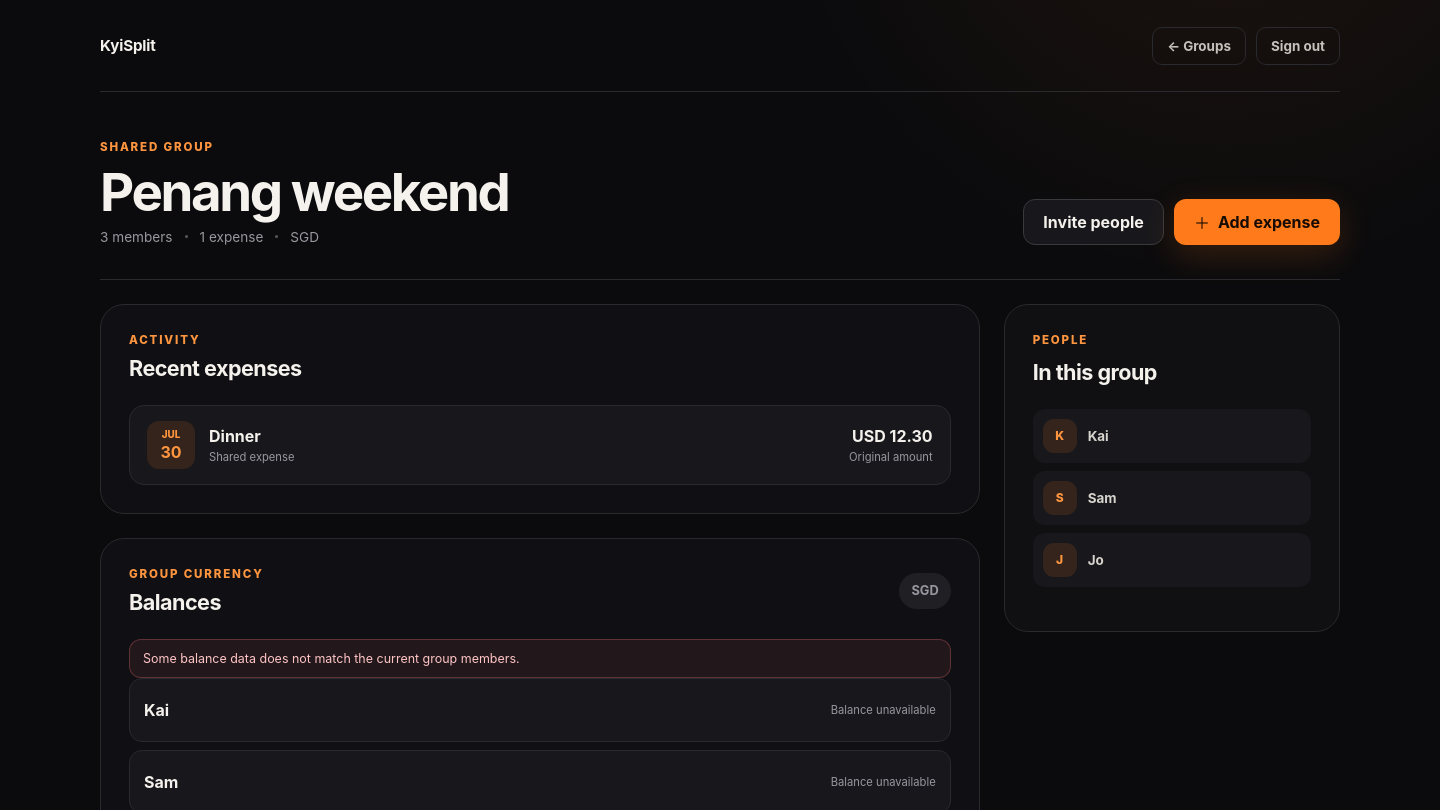
preserves the row after a safe API rejection
The image size is (1440, 810).
Click the button with aria-label "View details for Dinner": (171, 445) [129, 405, 951, 485]
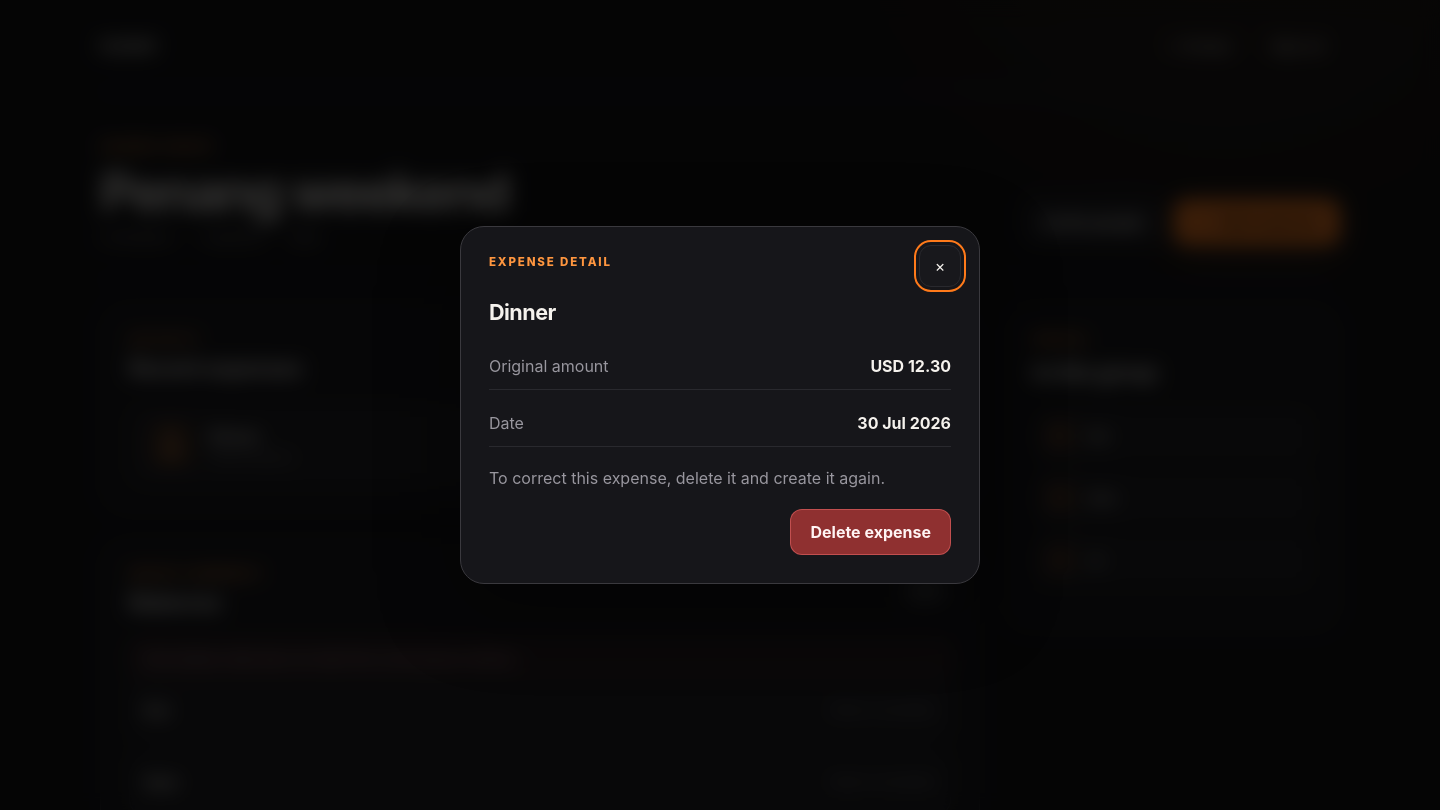
Click the button "Delete expense": (871, 532) [790, 509, 951, 555]
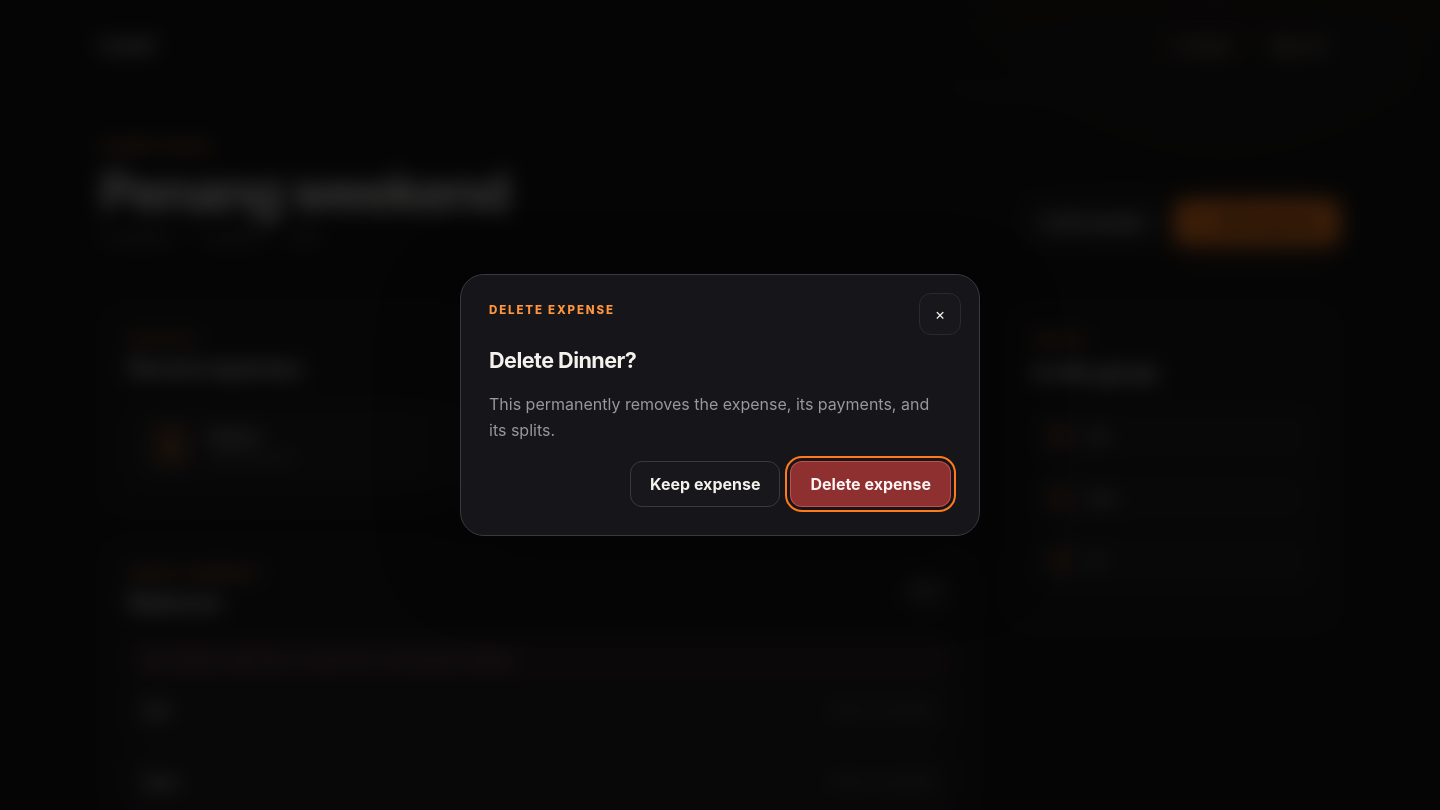
Click the button "Delete expense": (871, 484) [790, 461, 951, 507]
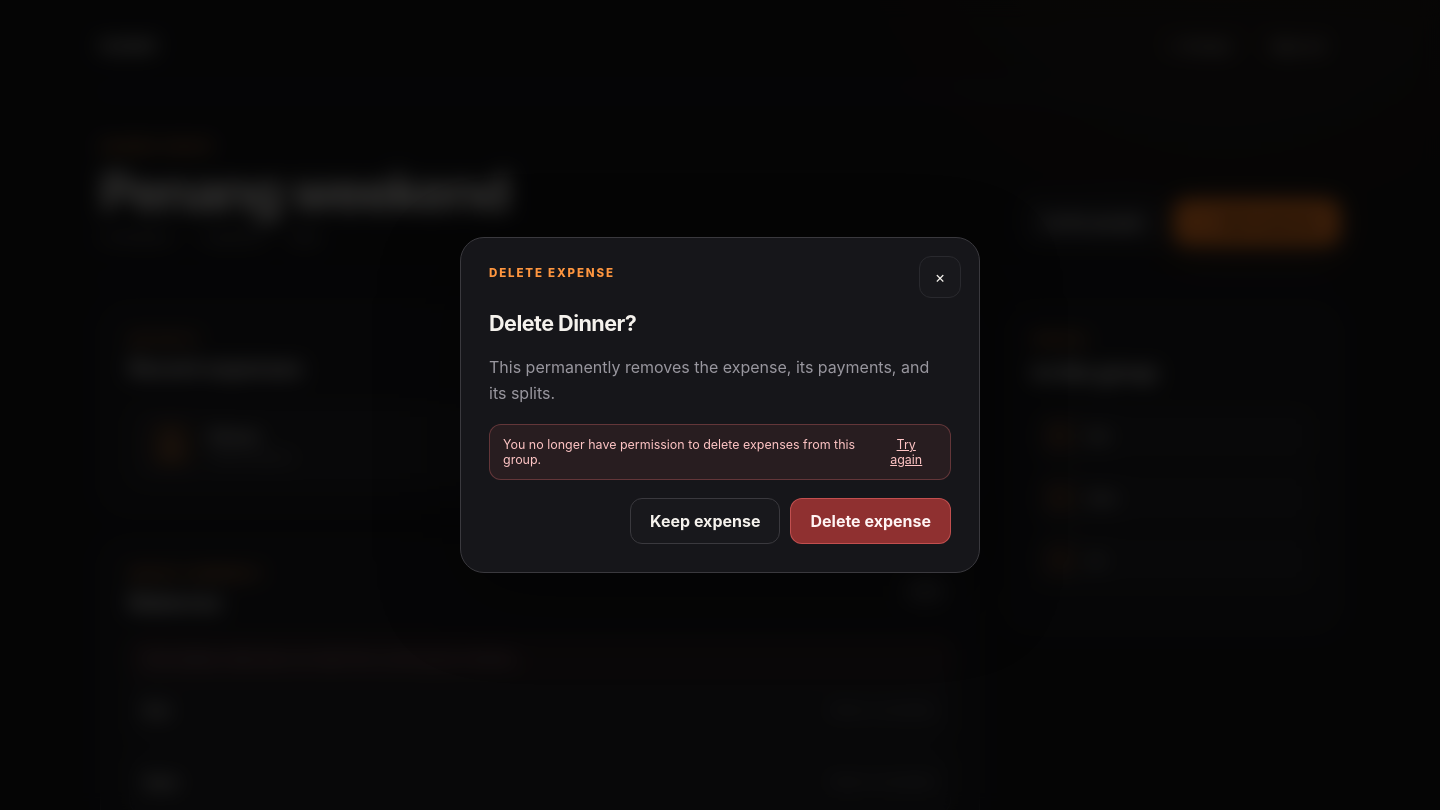
Check: the button with aria-label "View details for Dinner" is shown, box [129, 405, 951, 485]
Check: the text "You no longer have permission to delete expenses from this group." is shown, box [503, 437, 859, 467]
